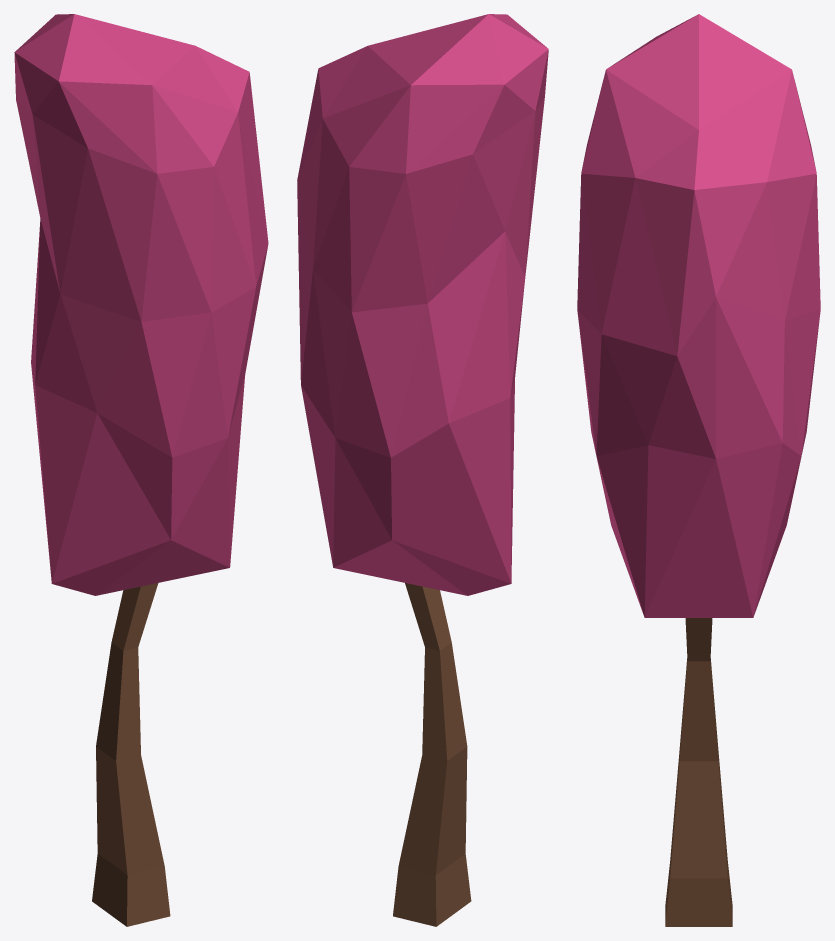
The model's file is Tree_38_Pink.fbx.
3 views of the same model, side by side, from view 1: azimuth 30°, elevation 25°; view 2: azimuth 150°, elevation 25°; view 3: azimuth 270°, elevation 25° (orthographic). The views are drawn at different scales.
Parts seen in each view (by area): view 1: Tree_38_Pink_Part_1, Tree_38_Pink_Part_2; view 2: Tree_38_Pink_Part_1, Tree_38_Pink_Part_2; view 3: Tree_38_Pink_Part_1, Tree_38_Pink_Part_2.
Boxes of the visible parts, box(x1,y1,x2,y2) form: Tree_38_Pink_Part_1: box(14, 14, 268, 595); Tree_38_Pink_Part_2: box(92, 583, 170, 926); Tree_38_Pink_Part_1: box(297, 14, 548, 595); Tree_38_Pink_Part_2: box(393, 583, 471, 926); Tree_38_Pink_Part_1: box(577, 14, 820, 617); Tree_38_Pink_Part_2: box(665, 618, 732, 926).
Size of the model in its own units: 209 by 800 by 201.
